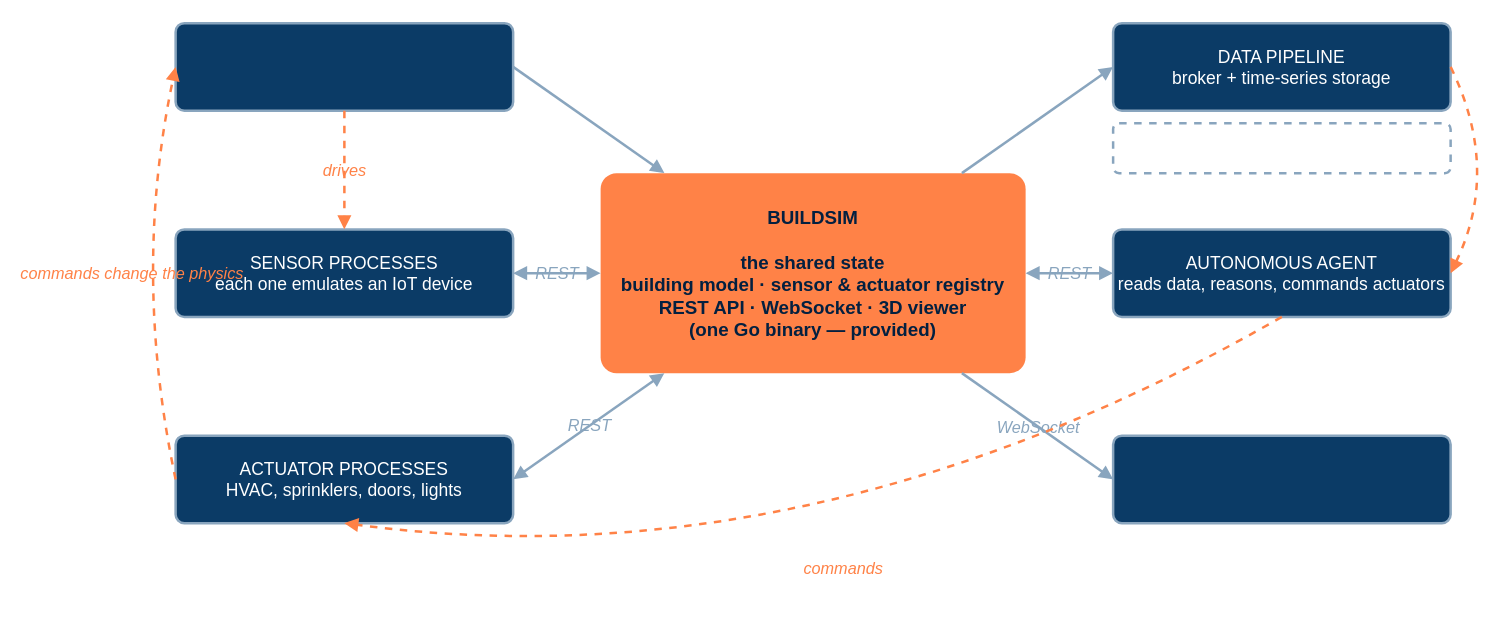
The diagram is 1501 pixels wide and 625 high, and some of its shapes have lost their labels. Here are the shapes that lost their labels. From the top down, the centre of each, then its label:
[344,66]: PHYSICAL SIMULATOR your physics: heat, smoke, CO₂, people
[1281,147]: GPU server — optional LLM (OpenAI-compatible API)
[1281,479]: DASHBOARD + 3D BROWSER VIEW live state via WebSocket
